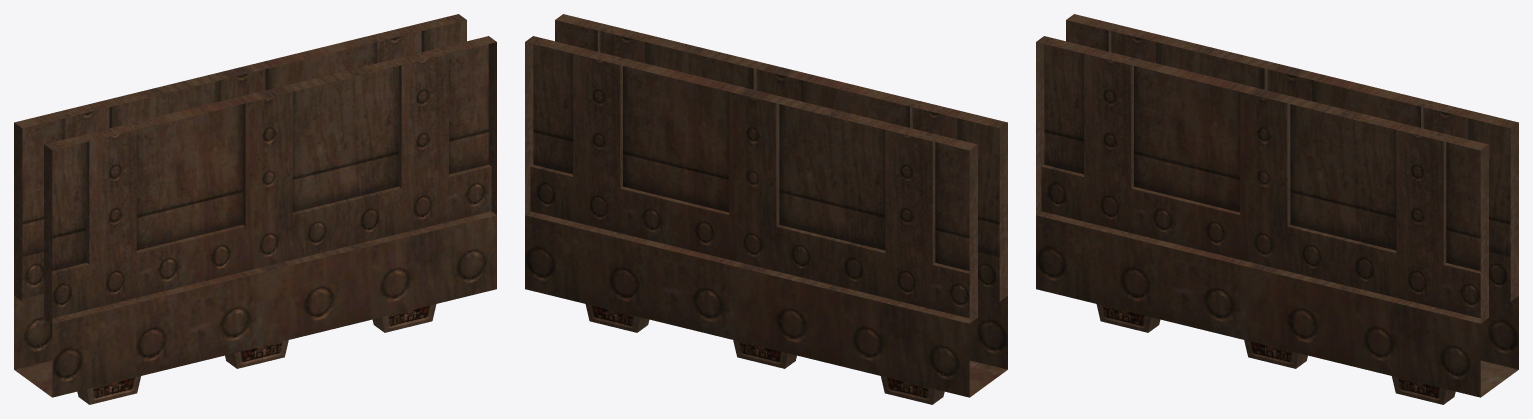
The model's file is door_jabba_backdoor.fbx.
3 renders of one model, left to right at view 1: azimuth 30°, elevation 25°; view 2: azimuth 150°, elevation 25°; view 3: azimuth 330°, elevation 25°, orthographic.
Parts seen in each view (by area): view 1: mesh_node; view 2: mesh_node; view 3: mesh_node.
Part boxes in pixels (bbox=[...]): mesh_node: bbox=[14, 14, 496, 404]; mesh_node: bbox=[525, 14, 1007, 404]; mesh_node: bbox=[1036, 14, 1518, 404].
Size of the model in its own units: 9.4 by 5.59 by 1.4.
Materials: 2 (2 with a texture image).
